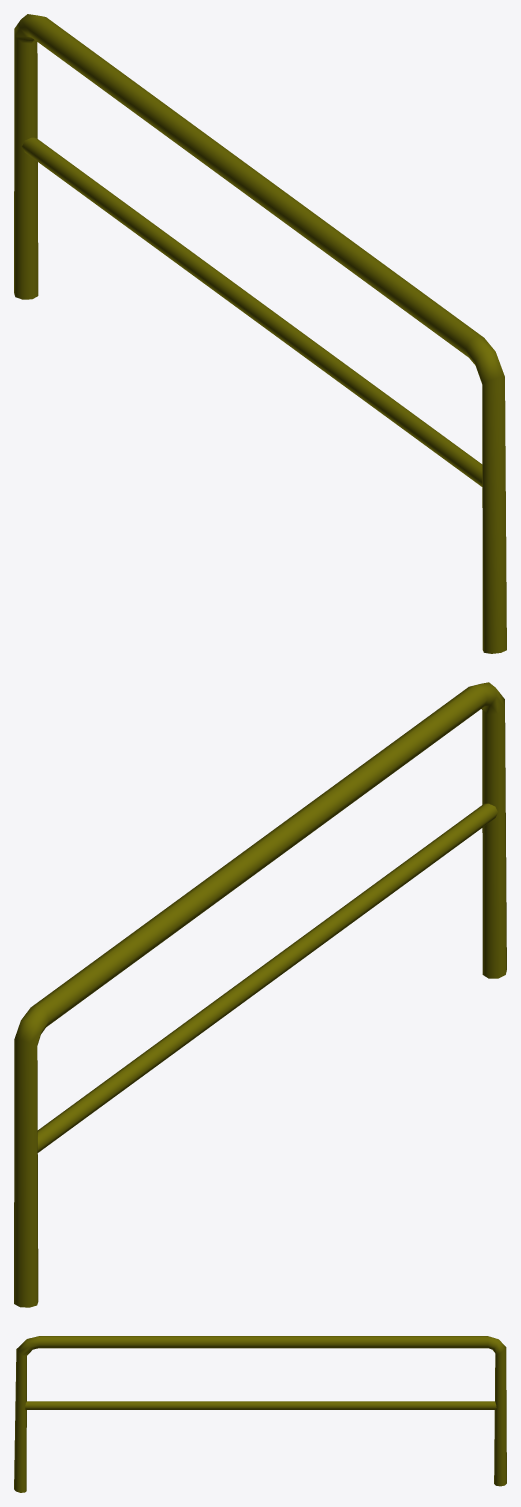
File: barriere.fbx
3 views of the same model, one above another, from view 1: azimuth 30°, elevation 25°; view 2: azimuth 150°, elevation 25°; view 3: azimuth 270°, elevation 25° (orthographic). The views are drawn at different scales.
Parts seen in each view (by area): view 1: barriere; view 2: barriere; view 3: barriere.
Boxes of the visible parts, x1=… form: barriere: x1=14, y1=14, x2=506, y2=653; barriere: x1=14, y1=682, x2=506, y2=1307; barriere: x1=14, y1=1336, x2=506, y2=1492.
Size of the model in its own units: 4.38 by 57.96 by 167.
Materials: 1 (1 with a texture image).
